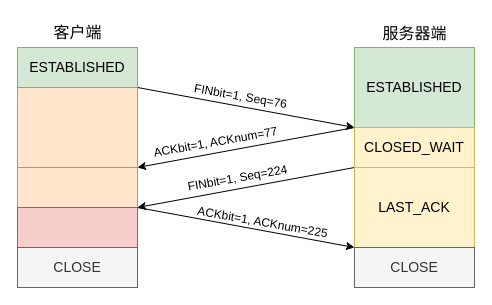
Image size: 492x305. Some labels were removed from this diagram. The centre of each missing label's shape, as x and y in pixels:
FIN_WAIT_1: [77,127]
FIN_WAIT_2: [77,187]
TIME_WAIT: [77,227]
